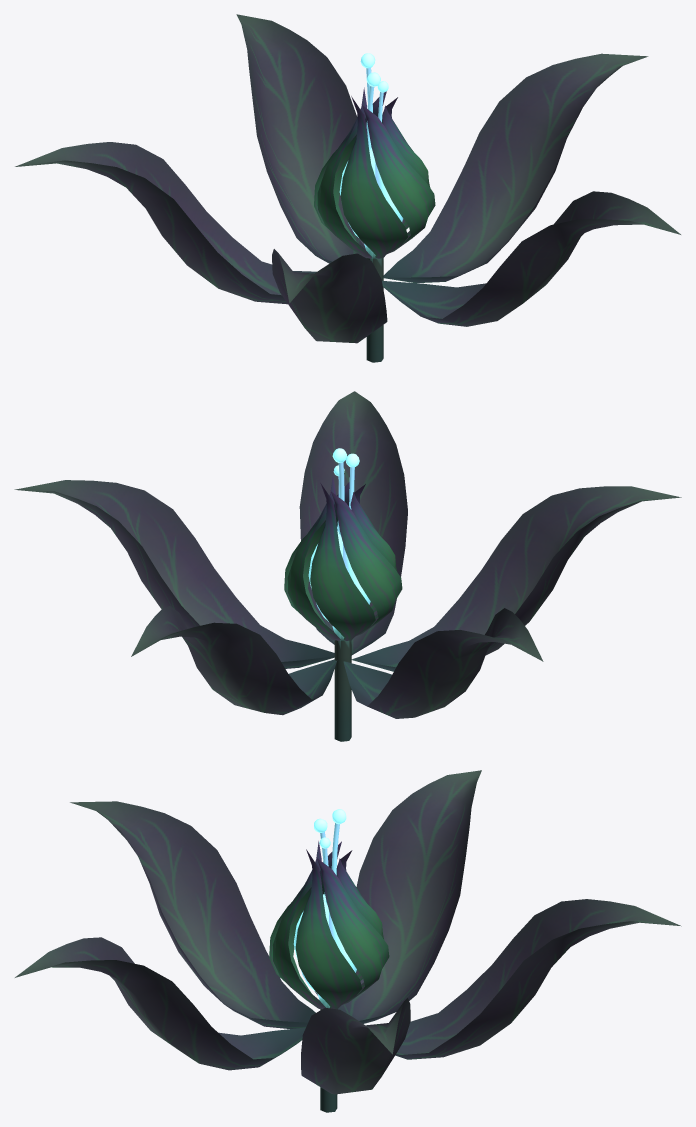
File: EXP_Flower_Mole_noAnim.fbx
The picture shows the model from 3 angles, top to bottom: view 1: azimuth 30°, elevation 25°; view 2: azimuth 150°, elevation 25°; view 3: azimuth 270°, elevation 25°; orthographic projection. The views are drawn at different scales.
Parts seen in each view (by area): view 1: OBJ_Flower_Mole; view 2: OBJ_Flower_Mole; view 3: OBJ_Flower_Mole.
Part boxes in pixels (x1,y1,x2,y2): OBJ_Flower_Mole: [15, 14, 680, 362]; OBJ_Flower_Mole: [14, 391, 681, 741]; OBJ_Flower_Mole: [15, 770, 681, 1112].
Bounding box in the file's own units: 51.54 × 25.21 × 51.13.
Materials: 1 (1 with a texture image).
